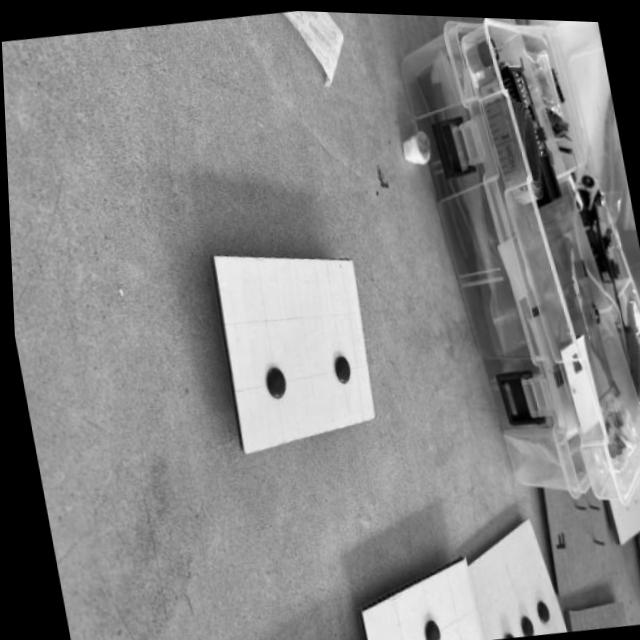braiile: (215, 259, 371, 444)
